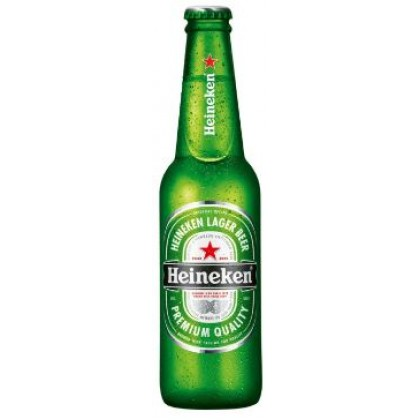glass: (157, 5, 265, 410)
